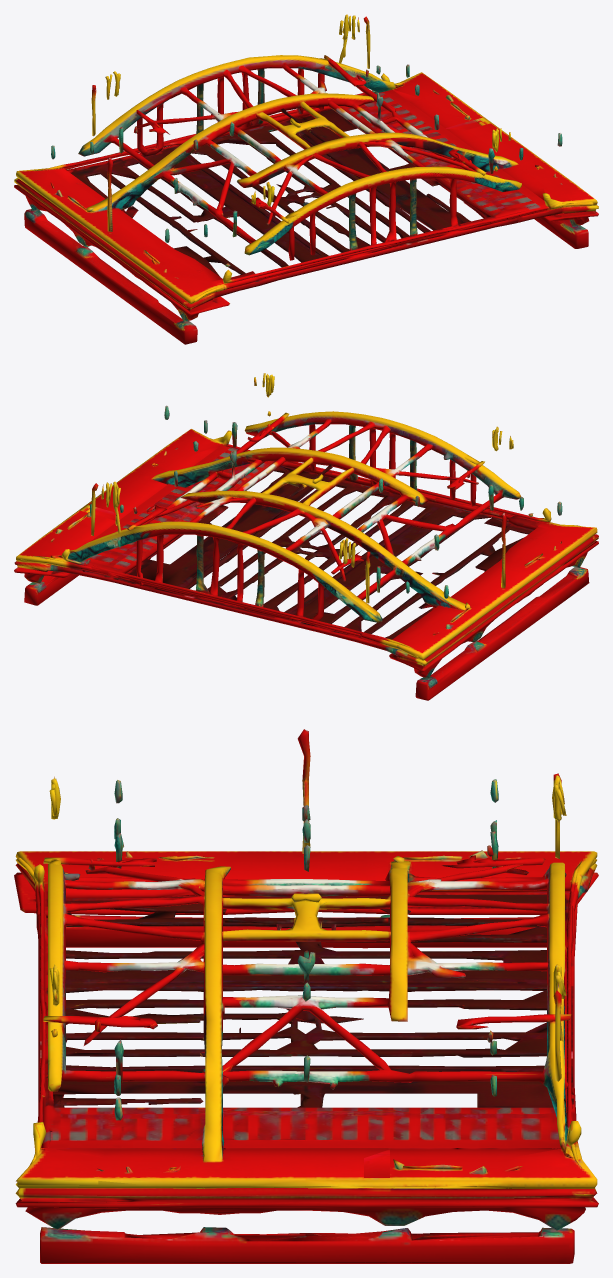
The model's file is bridge_1.glb.
3 renders of one model, top to bottom at view 1: azimuth 30°, elevation 25°; view 2: azimuth 150°, elevation 25°; view 3: azimuth 270°, elevation 25°, orthographic. The views are drawn at different scales.
Bounding box in the file's own units: 1.91 × 0.6145 × 1.41.
Materials: 1 (1 with a texture image).
